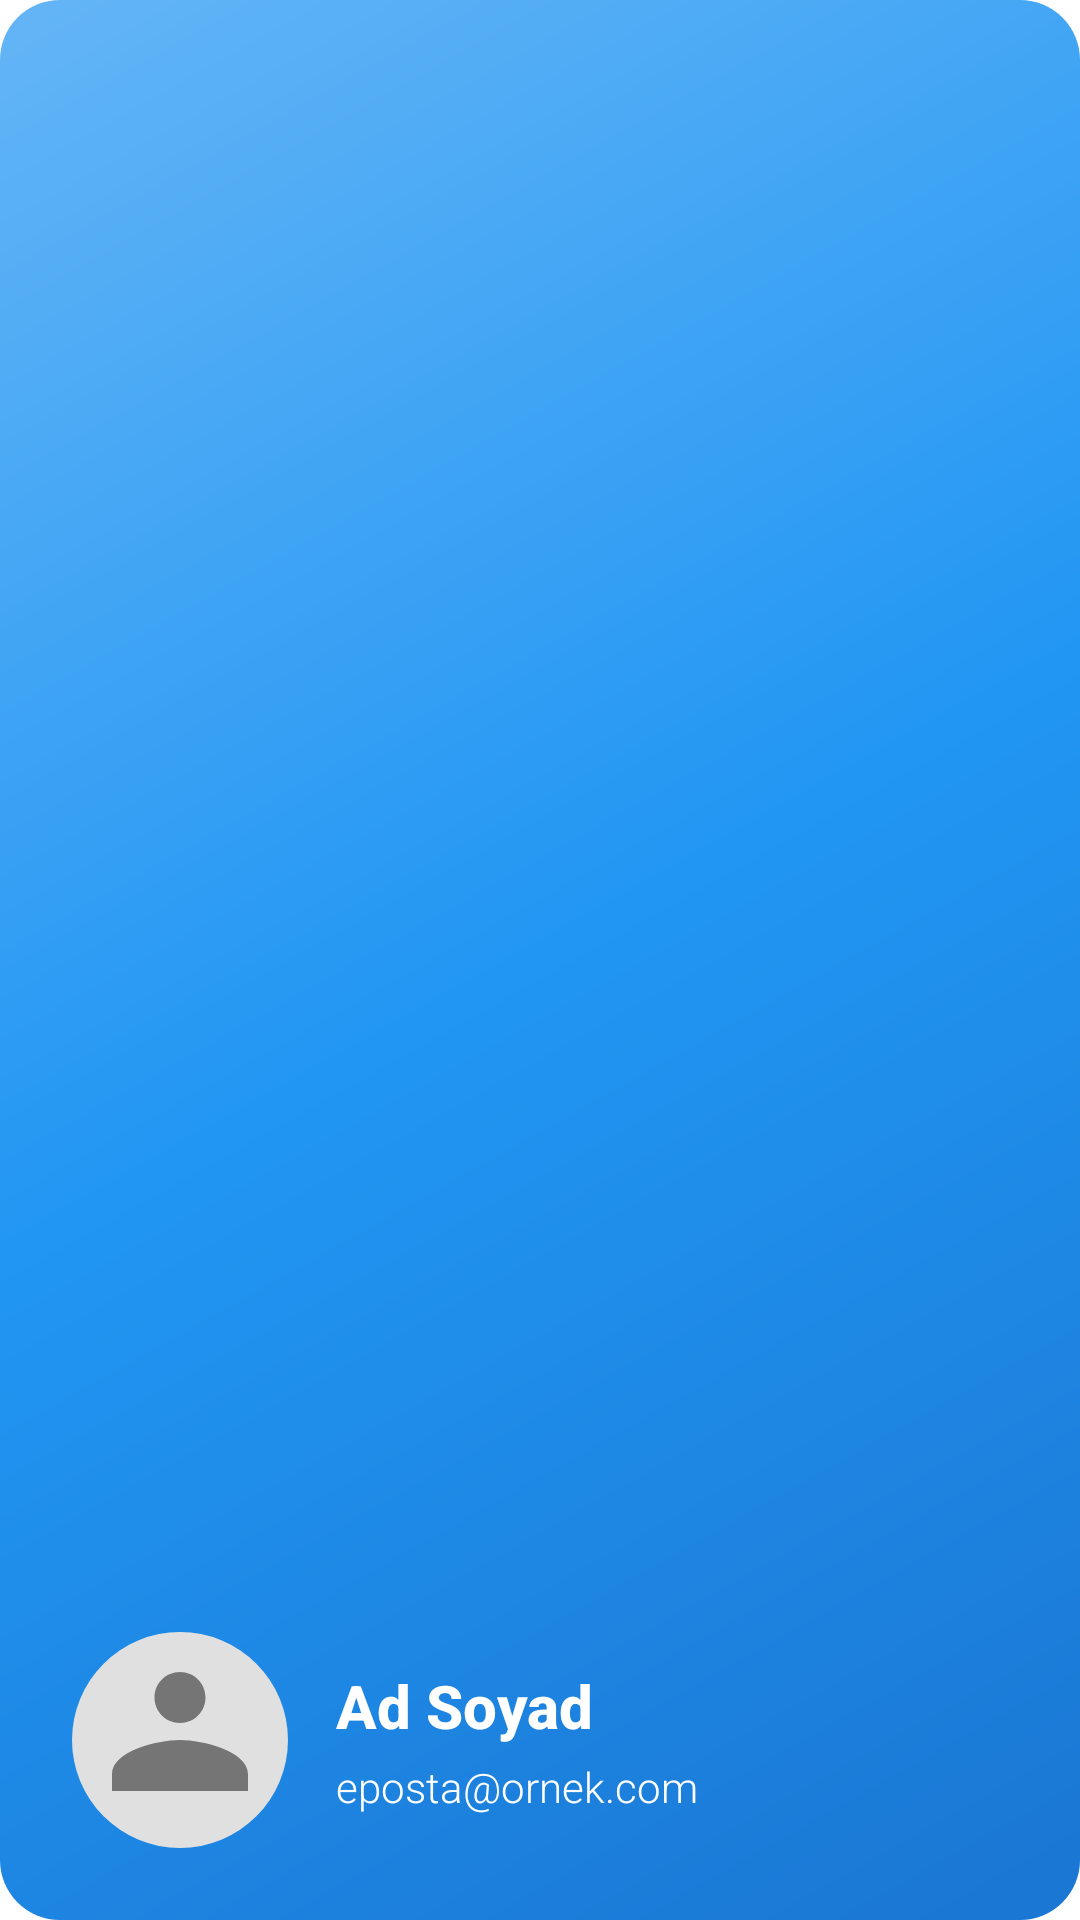

Icons on this 1080px x 1920px Android screen, each with its box as BBox(x1, y1, x2, y2):
Profil Fotoğrafı: BBox(72, 1632, 288, 1848)
